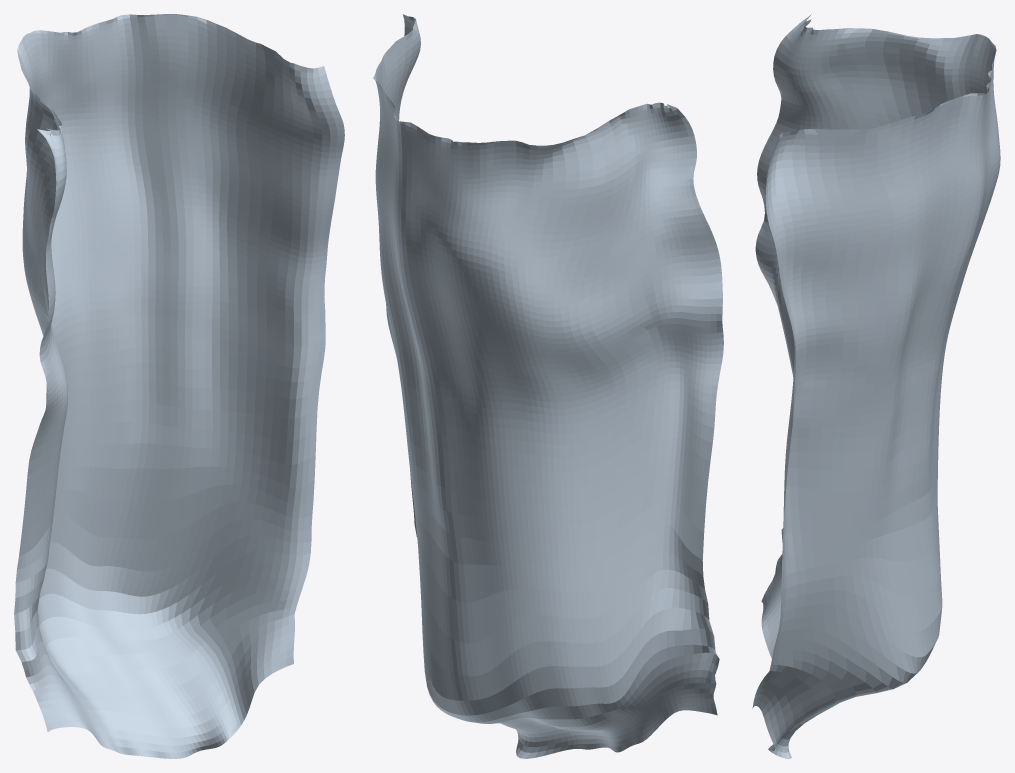
The picture shows the model from 3 angles, left to right: view 1: azimuth 30°, elevation 25°; view 2: azimuth 150°, elevation 25°; view 3: azimuth 270°, elevation 25°; orthographic projection. The views are drawn at different scales.
Parts seen in each view (by area): view 1: bu1:polySurface1; view 2: bu1:polySurface1; view 3: bu1:polySurface1.
Part boxes in pixels (x1,y1,x2,y2): bu1:polySurface1: [14, 14, 344, 758]; bu1:polySurface1: [373, 14, 723, 758]; bu1:polySurface1: [752, 14, 1000, 758].
Bounding box in the file's own units: 6.01 × 12.14 × 4.
